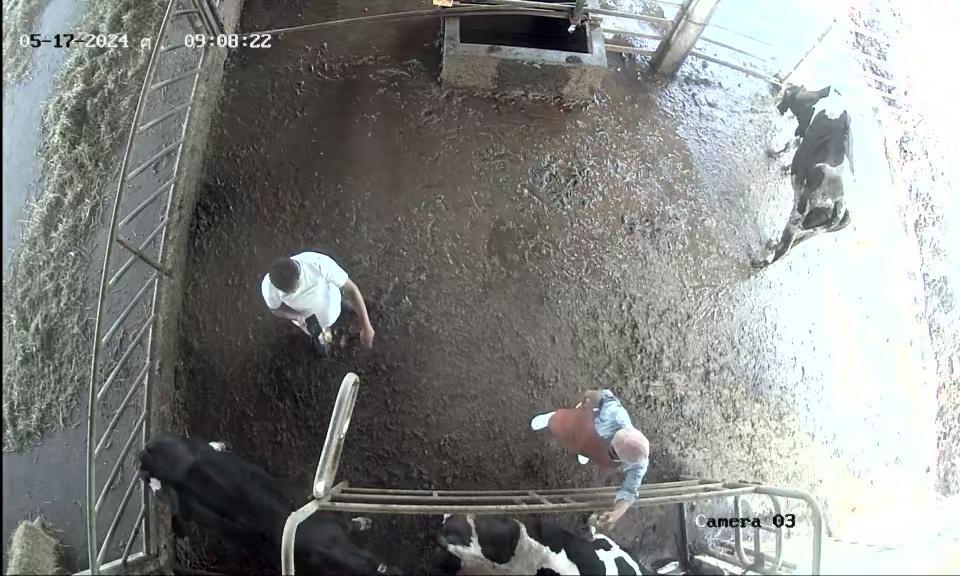stand: (133, 425, 403, 576), (732, 71, 877, 280), (429, 497, 686, 576)
